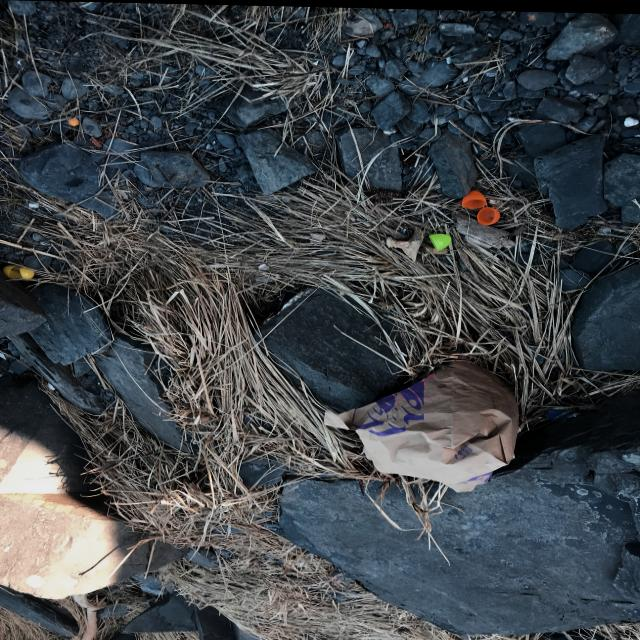Paper: (318, 351, 528, 498)
Plastic: (457, 185, 501, 224), (422, 229, 456, 252), (0, 264, 37, 282)
